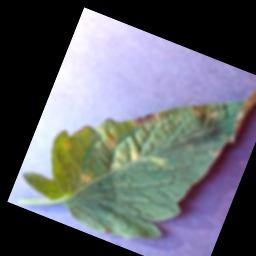Leaf_Mold: (127, 98, 168, 137), (76, 167, 96, 187), (60, 137, 73, 150)
